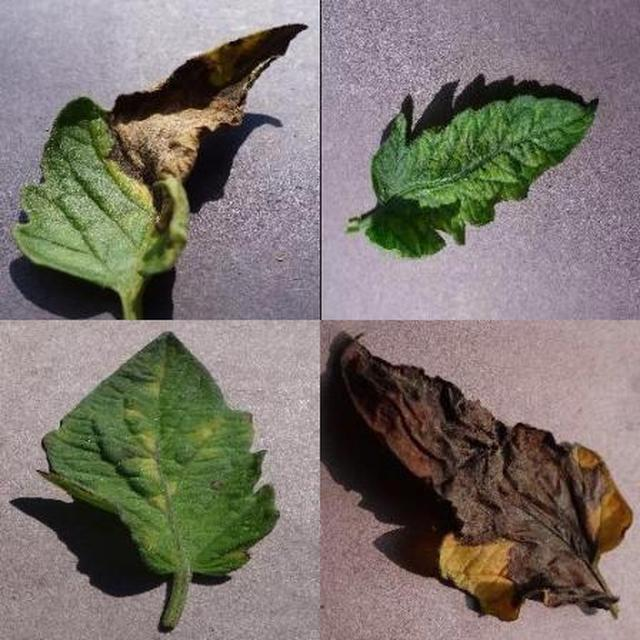Late Blight Leaf: (221, 221, 640, 640)
